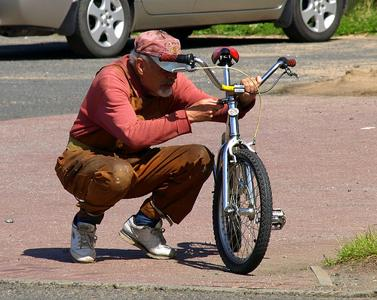person: (54, 27, 263, 268)
